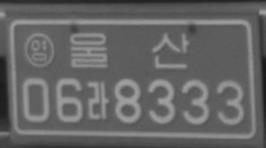0: (21, 76, 51, 122)
3: (216, 78, 245, 127), (147, 78, 176, 124), (181, 78, 209, 125)
6: (55, 77, 83, 123)
8: (113, 77, 142, 124)
라: (86, 81, 110, 121)
영: (23, 32, 55, 68)
울산_D: (69, 31, 190, 70)
